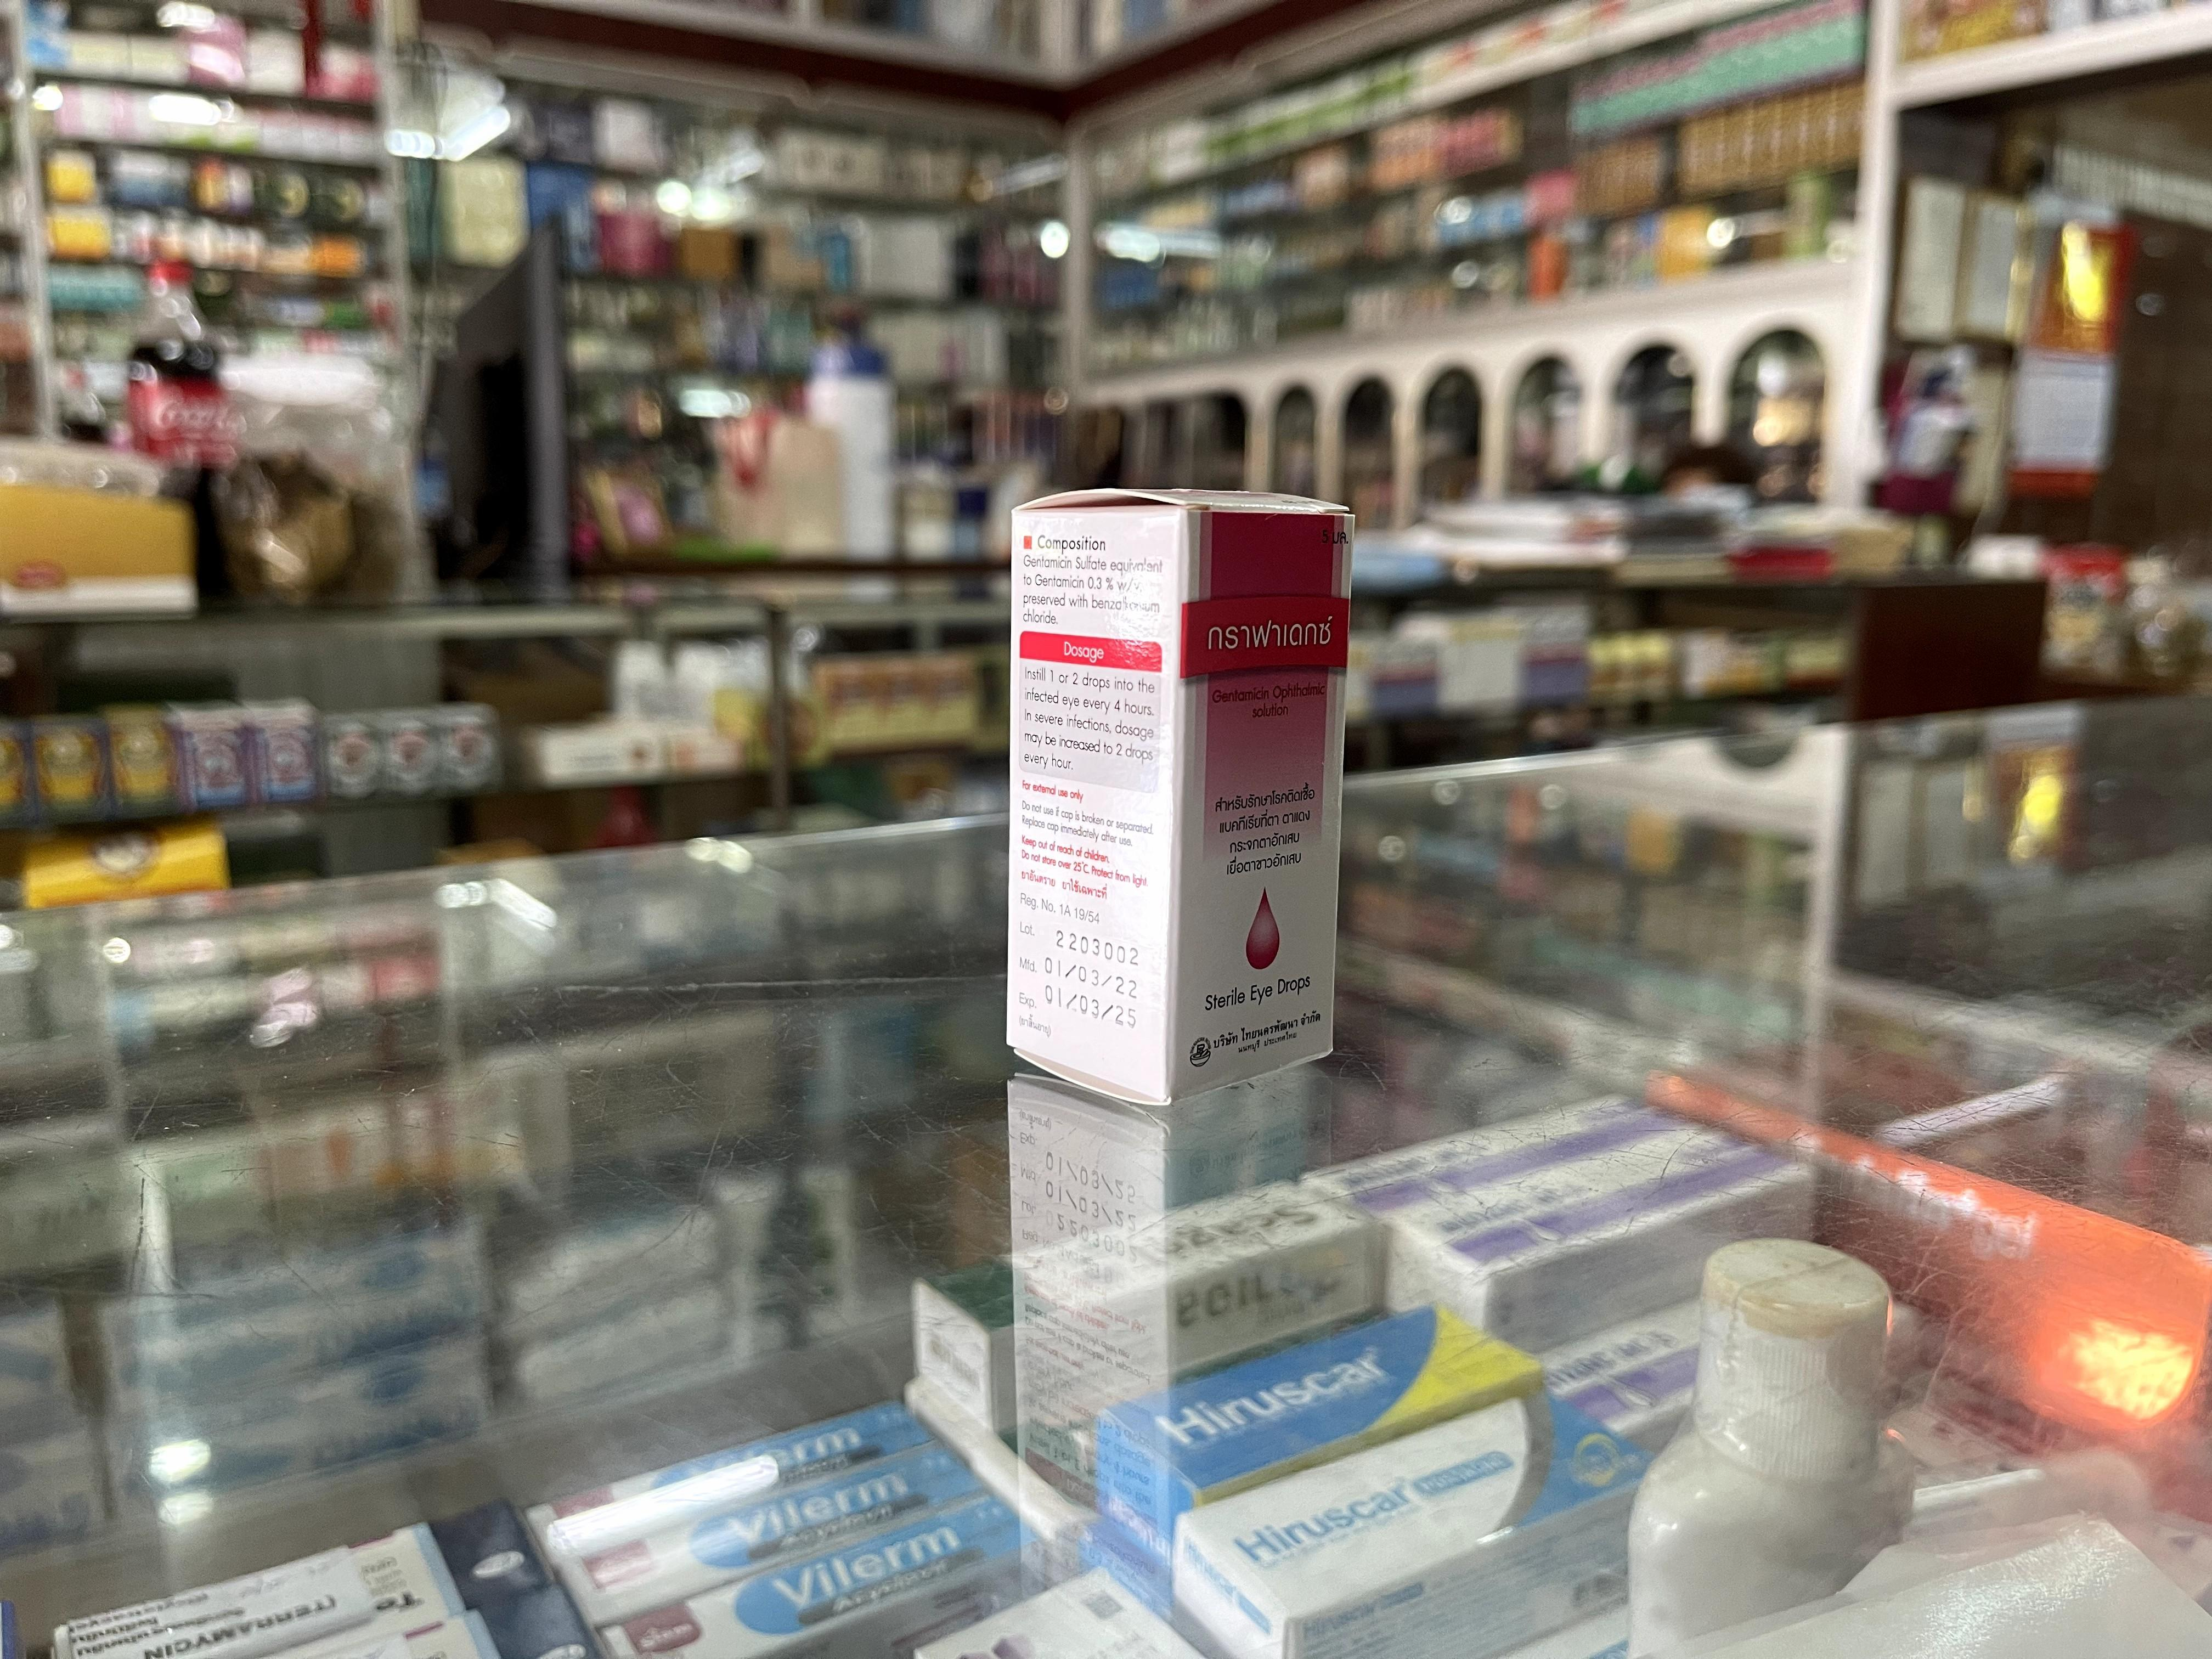Grafadex: (1007, 491, 1352, 1105)
